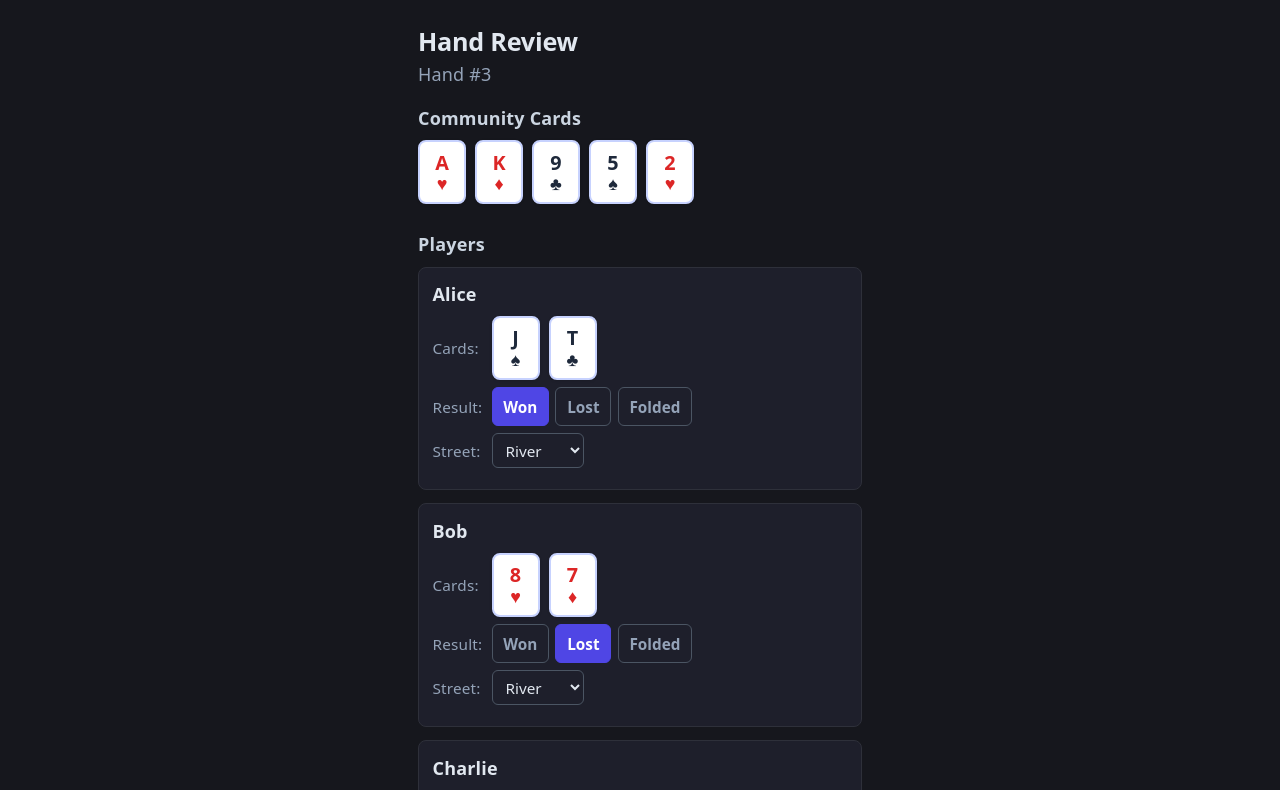
Test: ReviewScreen — editing community cards › tapping a community card opens CardPicker
The image size is (1280, 790).
Click the button with test id "review-community-flop1" at (442, 172), box [418, 140, 466, 204]
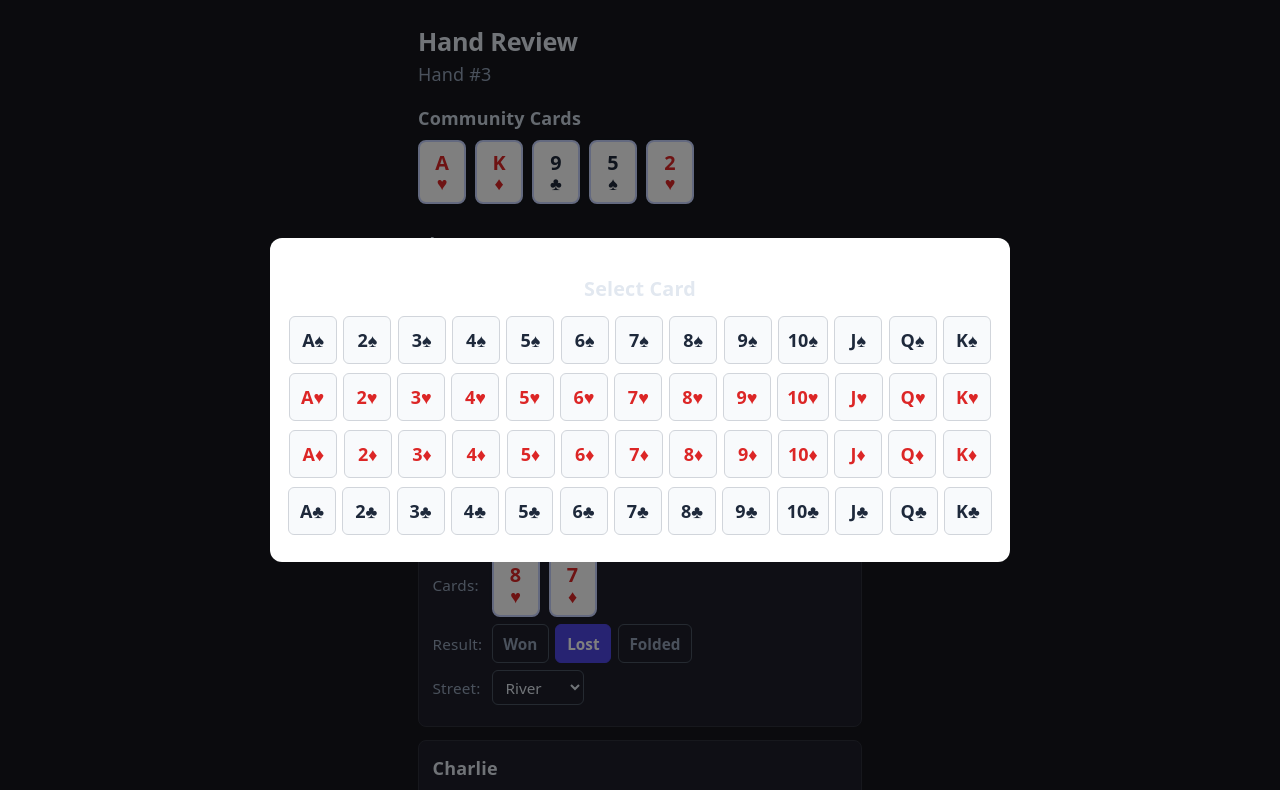
Check: the heading "Select Card" is shown, box [584, 275, 696, 302]
